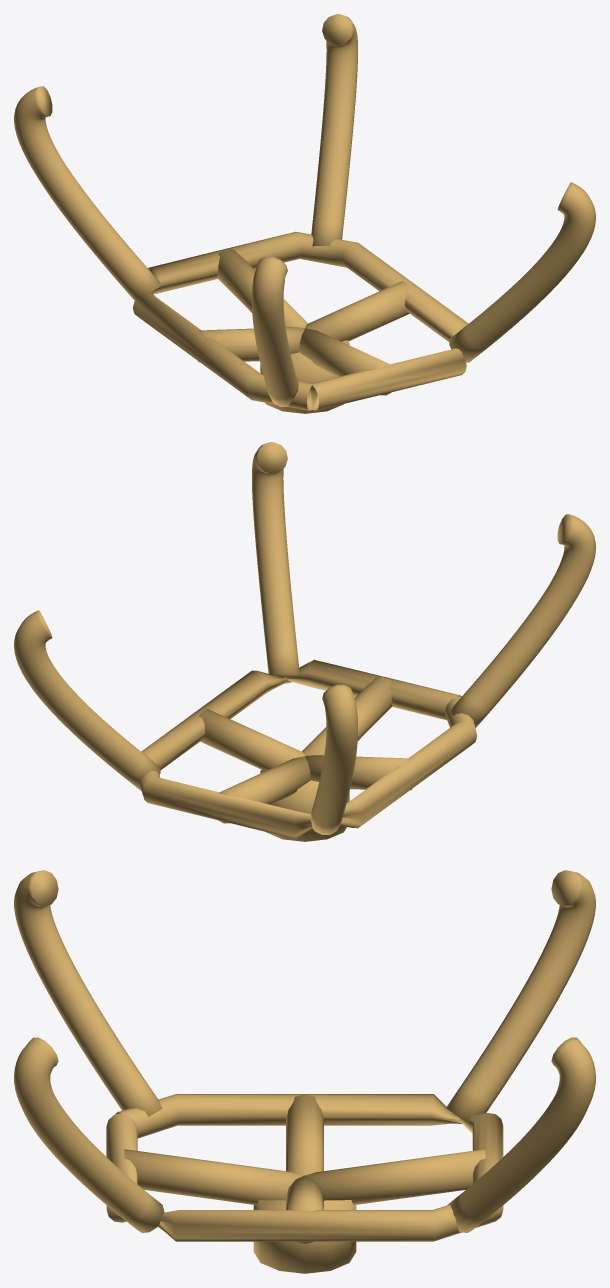
Rendered from demo-emerald-4-prong.glb.
The picture shows the model from 3 angles, top to bottom: view 1: azimuth 30°, elevation 25°; view 2: azimuth 150°, elevation 25°; view 3: azimuth 270°, elevation 25°; orthographic projection. The views are drawn at different scales.
Parts seen in each view (by area): view 1: Metal.104, Metal.106, Metal.105, Metal.108, Metal.107, Metal.100, Metal.103, Metal.102, Metal.101, Metal.099; view 2: Metal.104, Metal.107, Metal.108, Metal.105, Metal.106, Metal.100, Metal.102, Metal.103, Metal.101, Metal.099; view 3: Metal.104, Metal.106, Metal.107, Metal.108, Metal.105, Metal.102, Metal.103, Metal.099, Metal.101, Metal.100.
Boxes of the visible parts, bbox=[...] form: Metal.104: bbox=[133, 231, 468, 410]; Metal.106: bbox=[14, 86, 160, 300]; Metal.105: bbox=[311, 14, 357, 246]; Metal.108: bbox=[449, 182, 595, 362]; Metal.107: bbox=[252, 256, 298, 406]; Metal.100: bbox=[305, 281, 410, 341]; Metal.103: bbox=[299, 328, 391, 395]; Metal.102: bbox=[217, 249, 307, 327]; Metal.101: bbox=[198, 327, 304, 362]; Metal.099: bbox=[260, 340, 349, 413]; Metal.104: bbox=[140, 659, 476, 838]; Metal.107: bbox=[449, 514, 595, 727]; Metal.108: bbox=[252, 442, 299, 683]; Metal.105: bbox=[14, 610, 160, 790]; Metal.106: bbox=[310, 684, 357, 834]; Metal.100: bbox=[199, 709, 304, 769]; Metal.102: bbox=[218, 756, 310, 823]; Metal.103: bbox=[302, 677, 392, 755]; Metal.101: bbox=[305, 755, 411, 790]; Metal.099: bbox=[260, 768, 349, 841]; Metal.104: bbox=[106, 1094, 503, 1241]; Metal.106: bbox=[445, 870, 595, 1121]; Metal.107: bbox=[14, 870, 162, 1116]; Metal.108: bbox=[14, 1037, 164, 1232]; Metal.105: bbox=[447, 1037, 595, 1232]; Metal.102: bbox=[306, 1149, 485, 1204]; Metal.103: bbox=[124, 1149, 303, 1204]; Metal.099: bbox=[253, 1200, 356, 1273]; Metal.101: bbox=[286, 1094, 323, 1175]; Metal.100: bbox=[286, 1175, 323, 1243].
Size of the model in its own units: 5.7 by 4.16 by 7.38.
